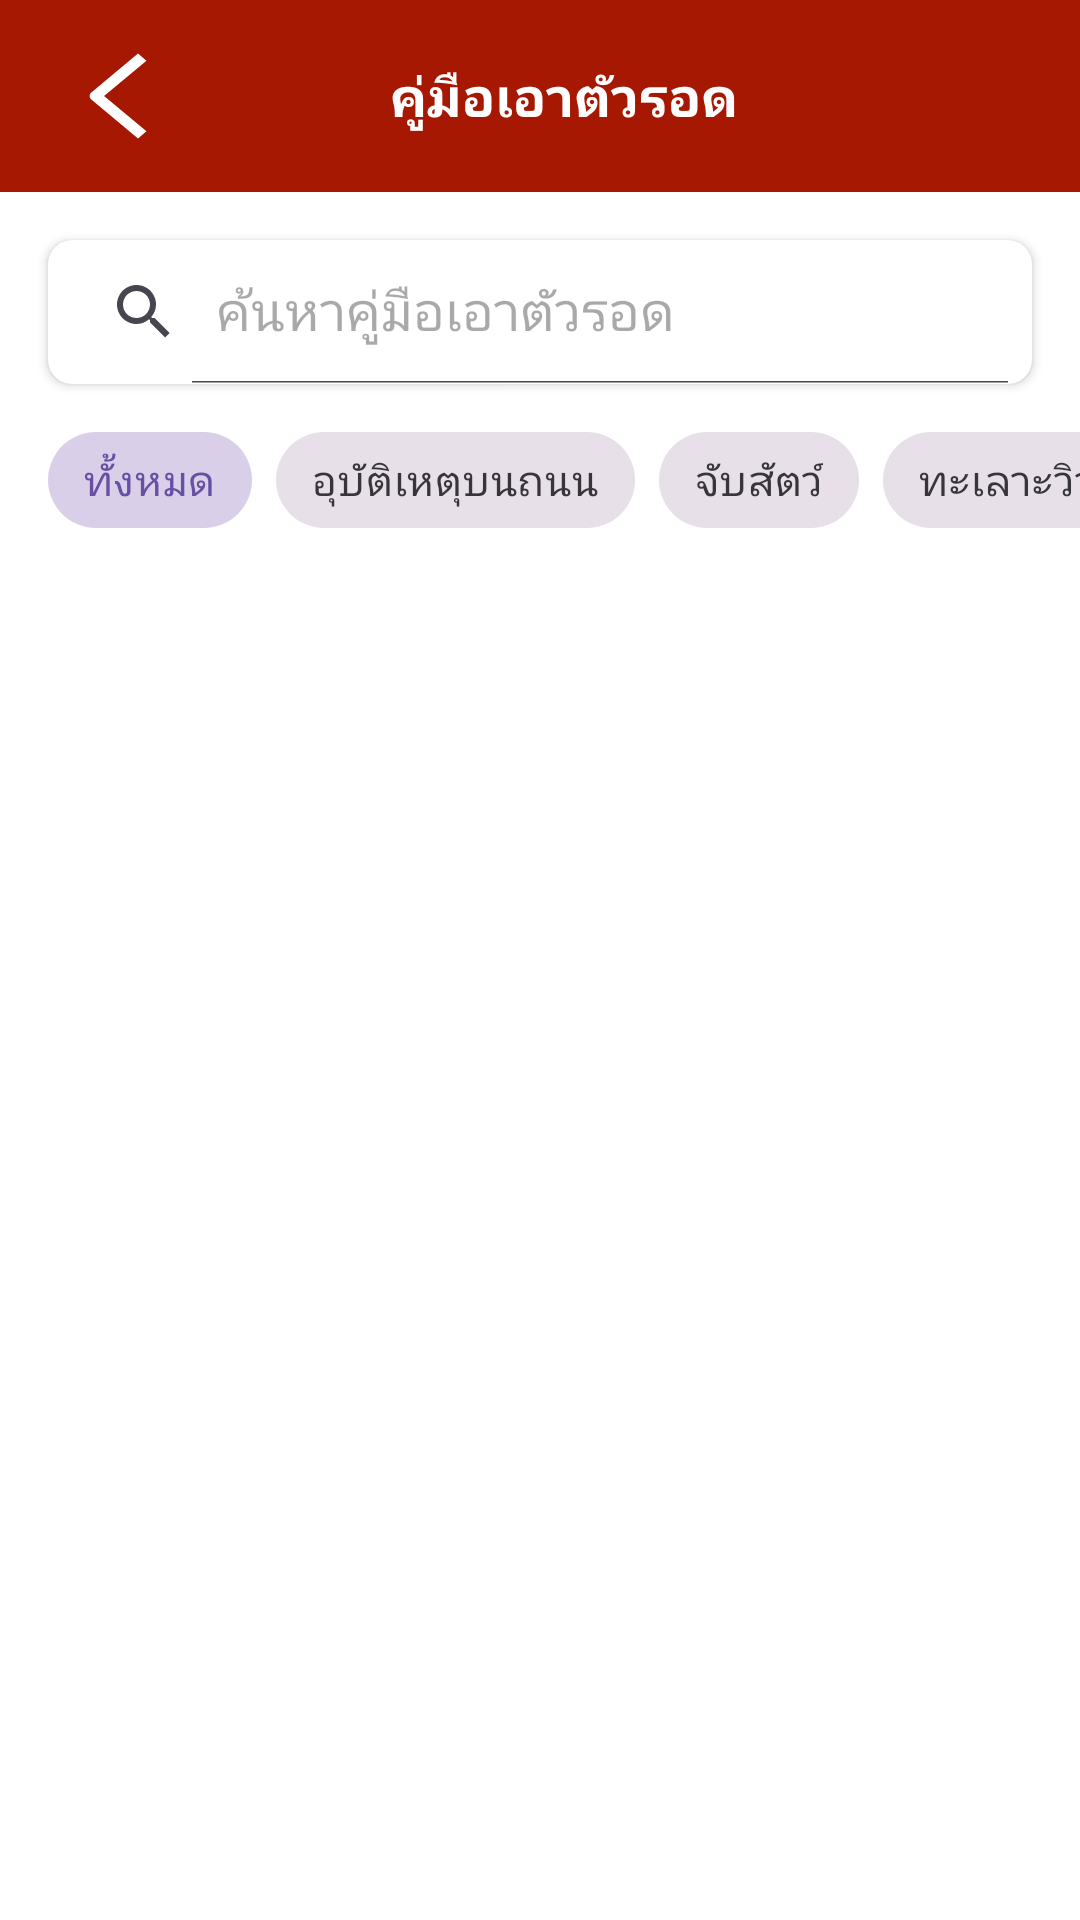

Named icons in this screenshot (1080 × 1920) and their centers, (x=x, y=y):
ย้อนกลับ: (x=118, y=96)
